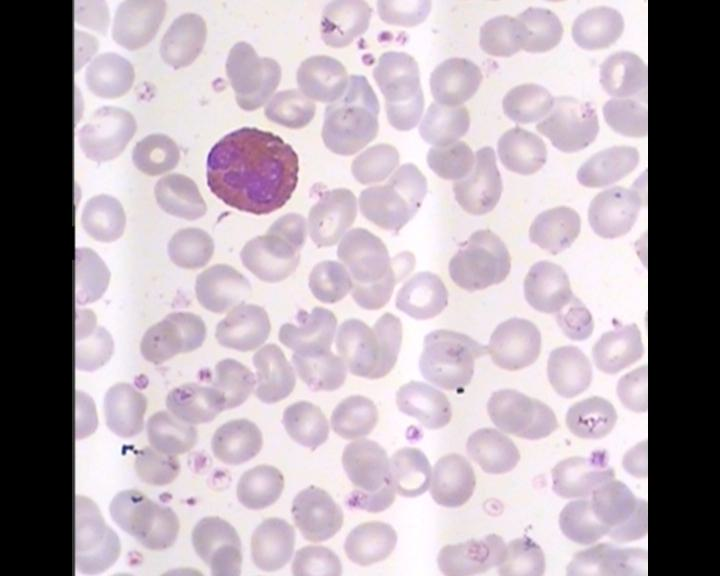eosi: (202, 123, 301, 214)
